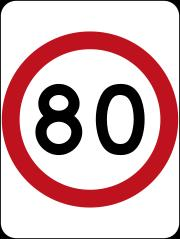Speed Limit -80-: (15, 60, 166, 182)
